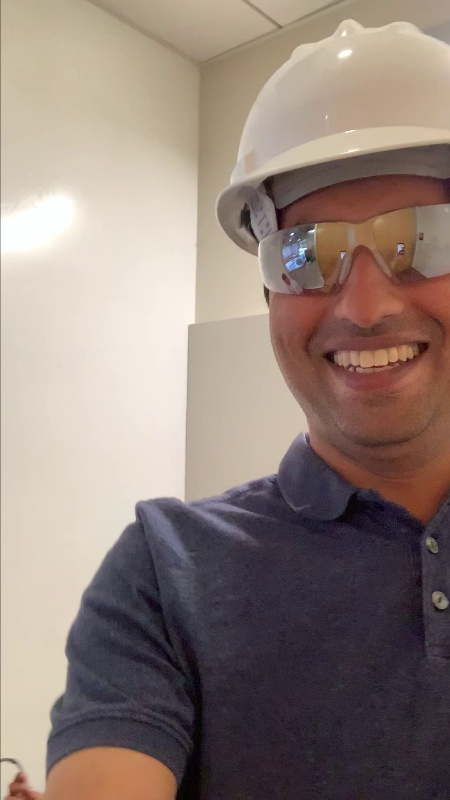glasses: (250, 200, 450, 291)
helmet: (216, 10, 450, 209)
